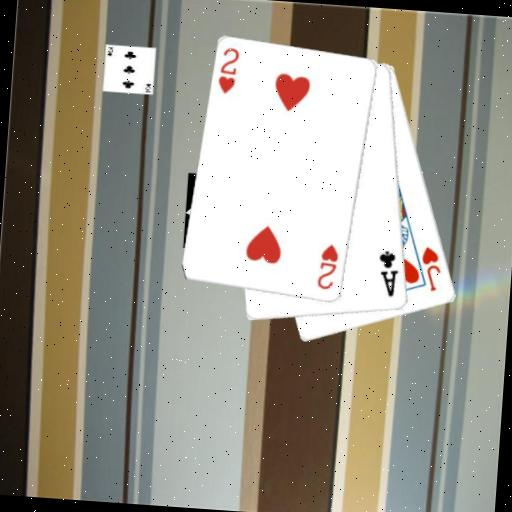2H: (314, 241, 341, 293), (215, 45, 242, 97)
AC: (374, 247, 402, 299)
JH: (417, 243, 444, 294)
